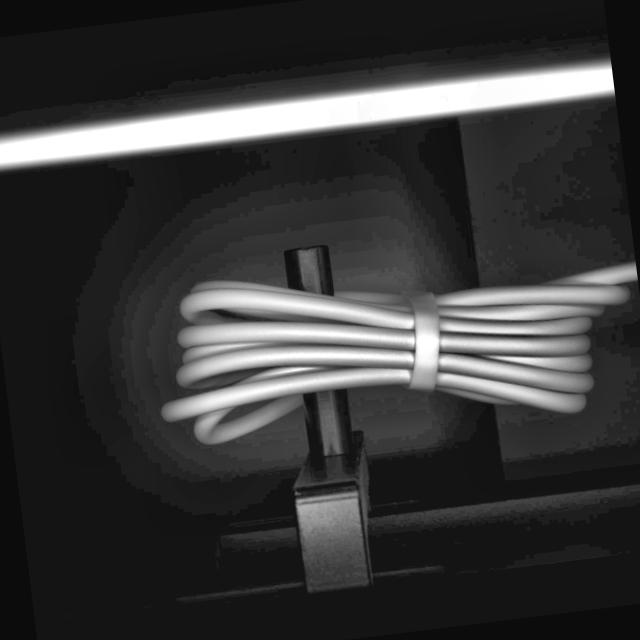Cable: (141, 225, 640, 465)
